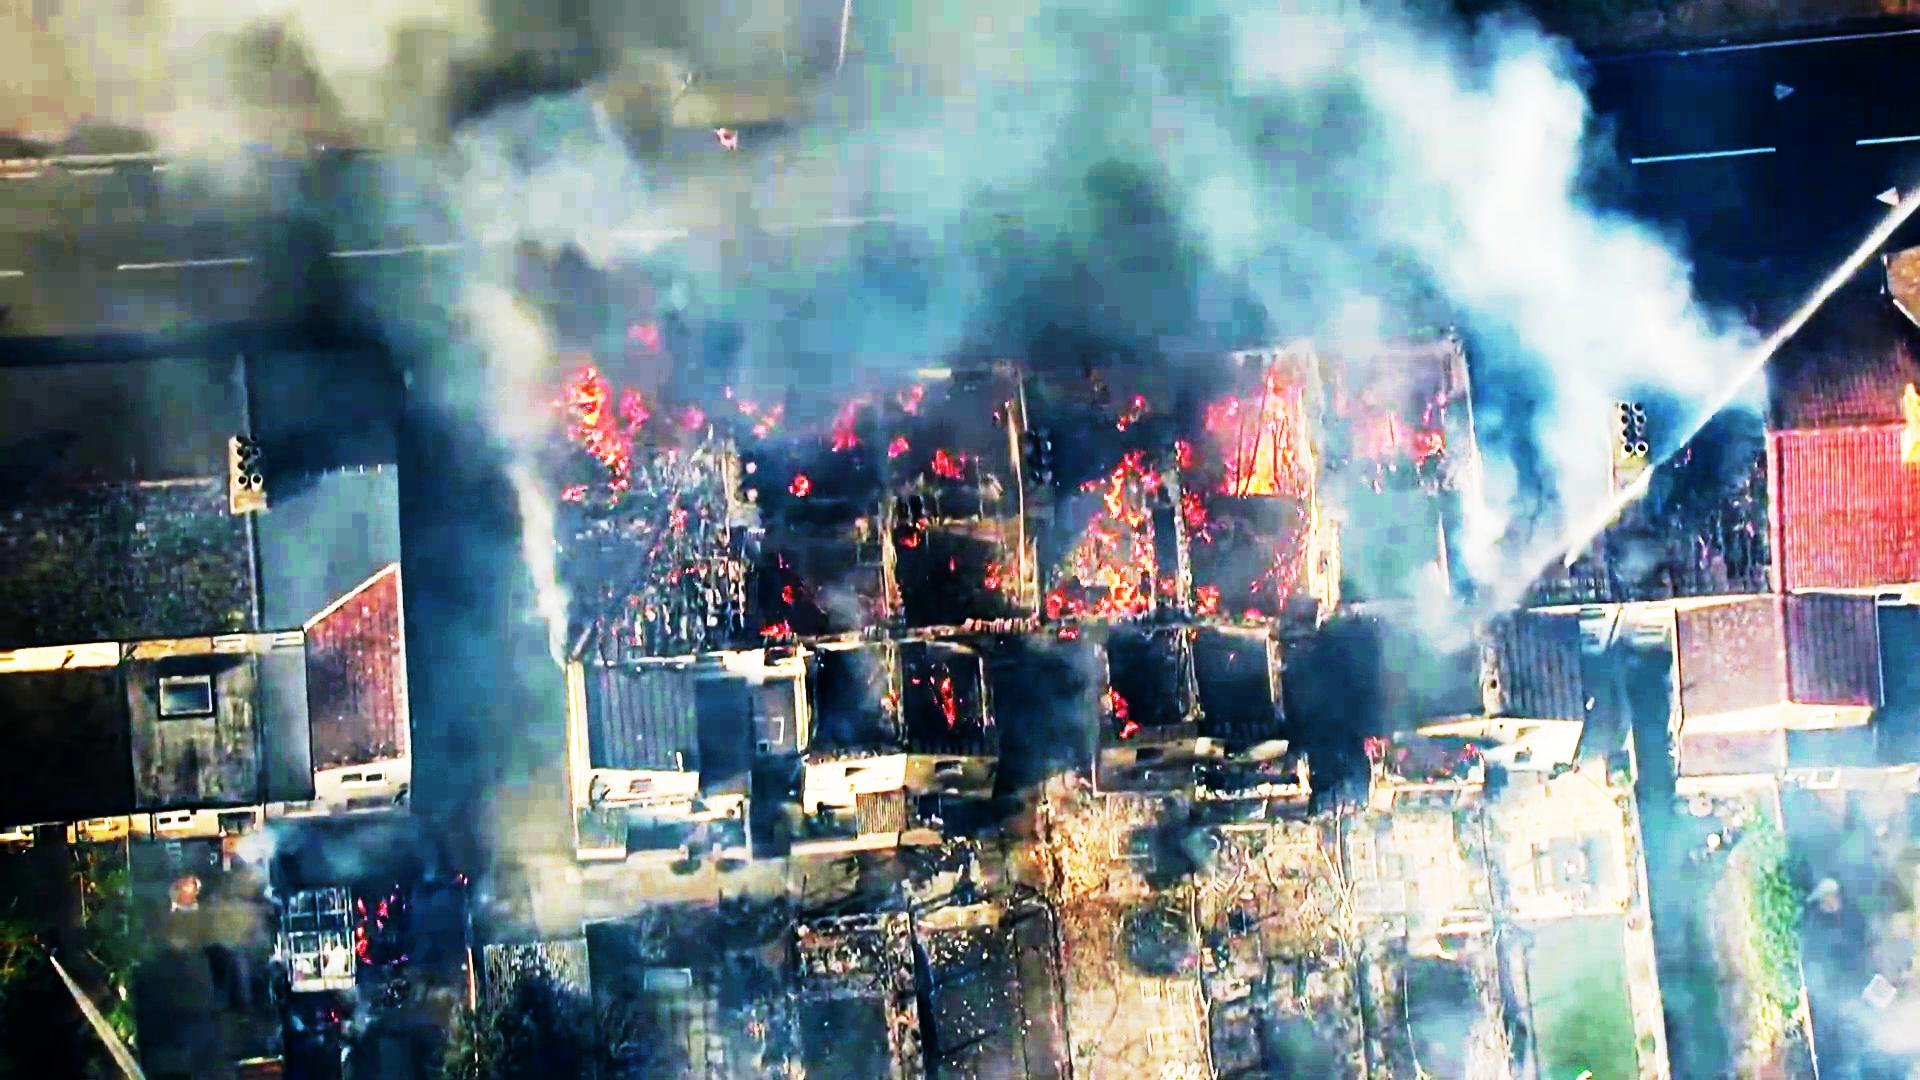fire: (1205, 352, 1313, 497)
smoke: (856, 5, 1485, 298), (450, 0, 795, 323)
